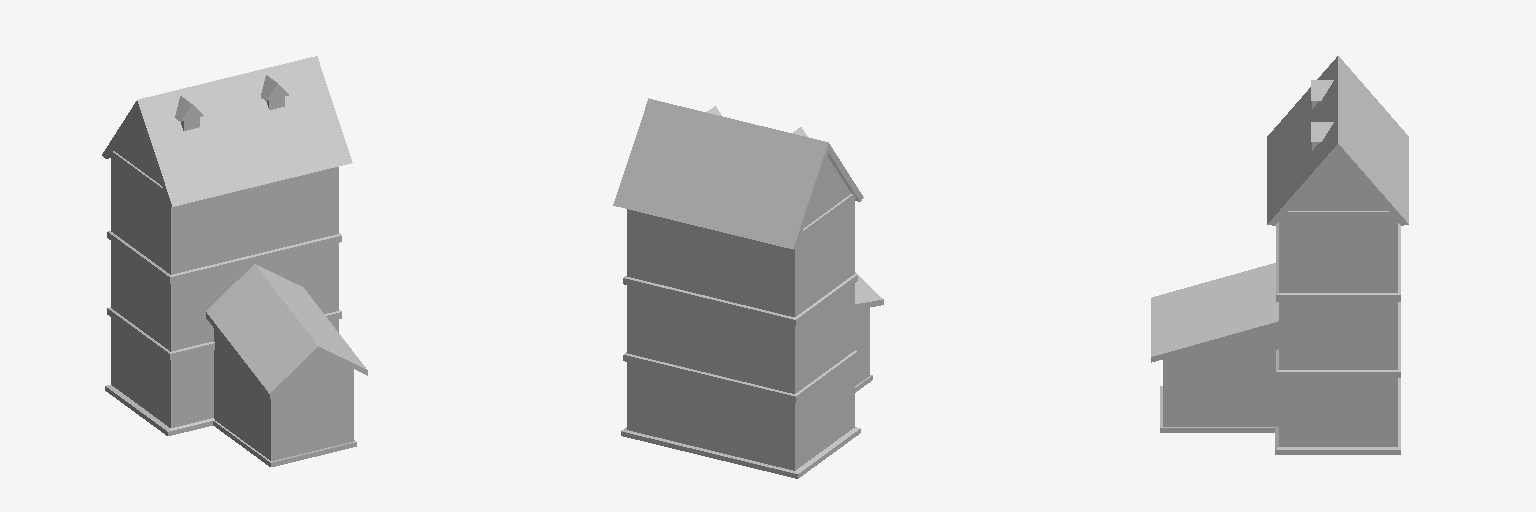
The model's file is house_10.obj.
3 views of the same model, side by side, from view 1: azimuth 30°, elevation 25°; view 2: azimuth 150°, elevation 25°; view 3: azimuth 270°, elevation 25° (orthographic).
Parts seen in each view (by area): view 1: Cube.121_Cube.145; view 2: Cube.121_Cube.145; view 3: Cube.121_Cube.145.
Part boxes in pixels (x1,y1,x2,y2): Cube.121_Cube.145: (102,56,367,466); Cube.121_Cube.145: (613,98,883,478); Cube.121_Cube.145: (1151,56,1408,454).
Bounding box in the file's own units: 7.04 × 11.67 × 8.71.